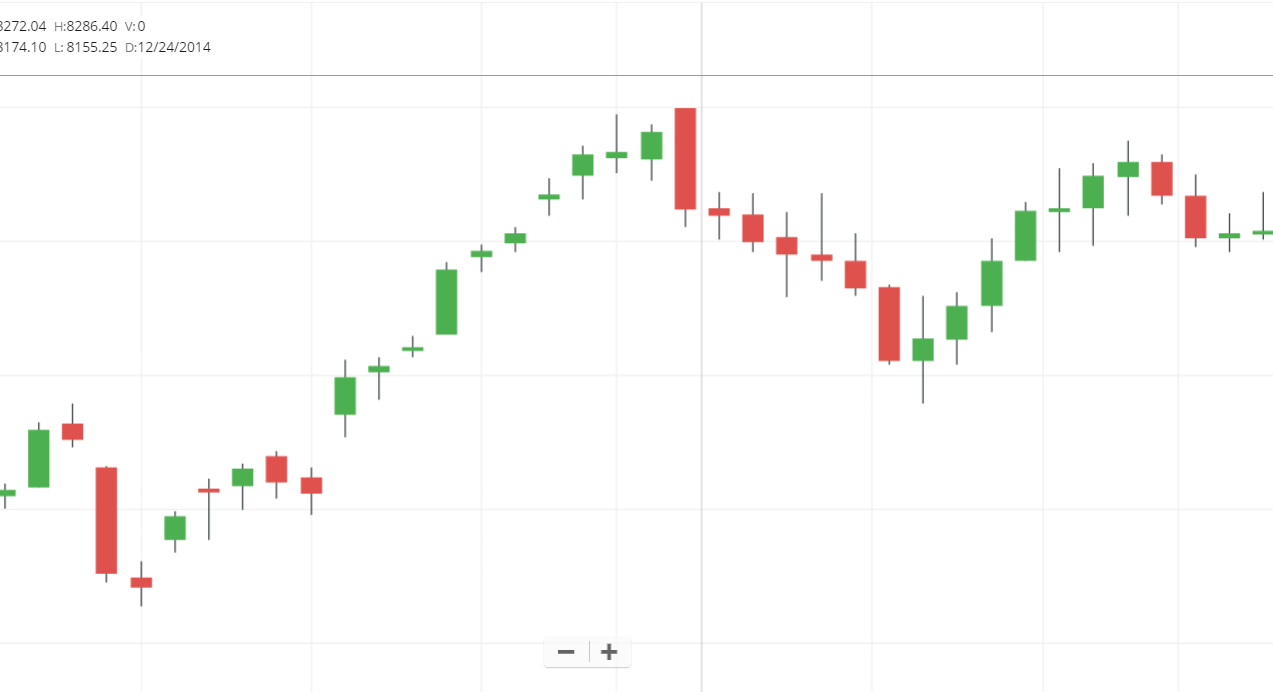doji: (808, 185, 836, 283), (194, 472, 225, 546), (602, 104, 632, 180), (366, 348, 394, 406)
